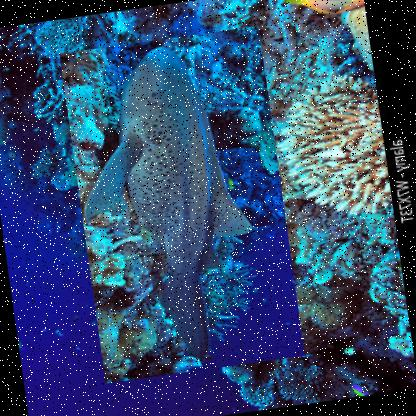zebra_shark: (58, 25, 305, 384)
